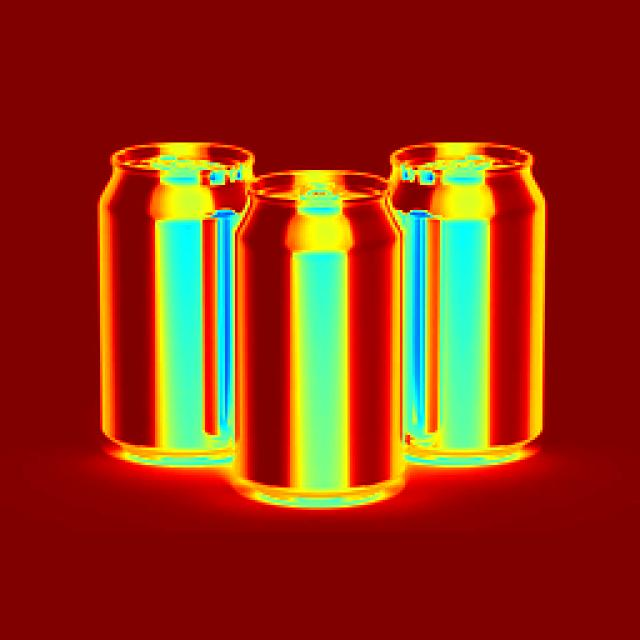Aluminium Food Cans: (234, 159, 398, 526), (389, 128, 552, 464), (97, 138, 236, 462)
